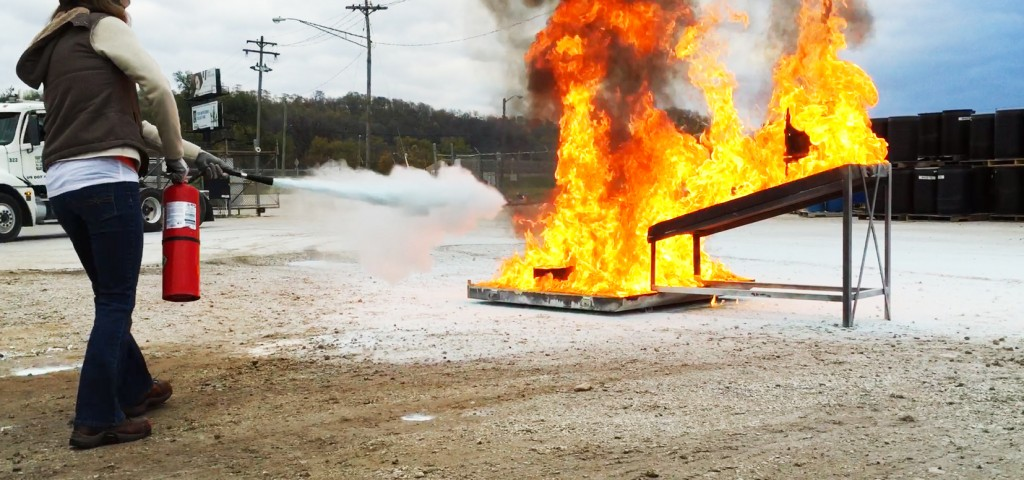fire: (165, 159, 199, 301)
